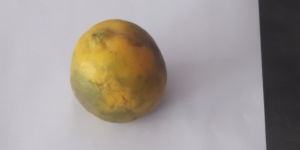BAD: (68, 18, 167, 124)
